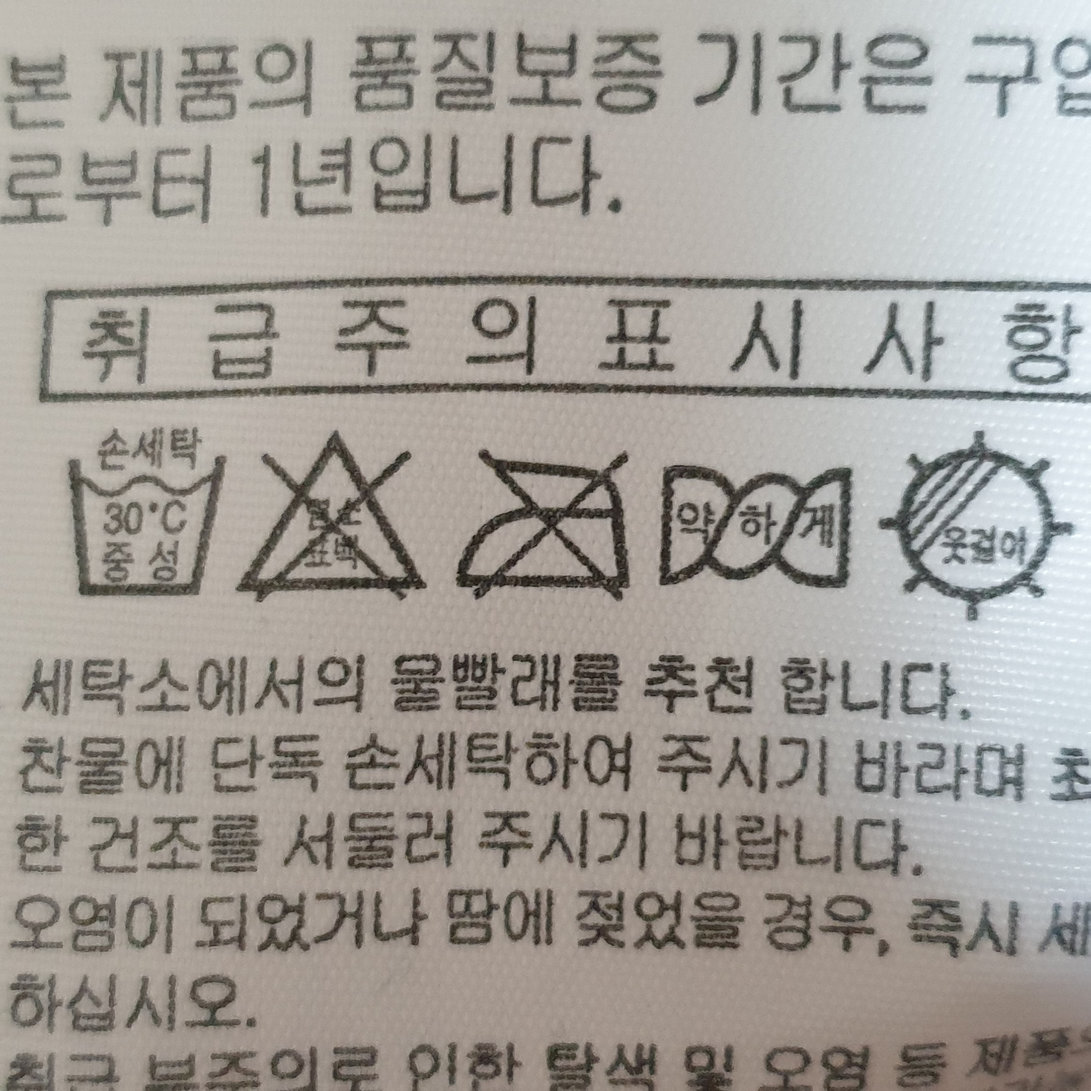KR_gentle_wring: (650, 436, 864, 597)
KR_hand_wash_30_neutral: (51, 415, 233, 610)
KR_hang_dry_in_shade: (877, 422, 1076, 625)
KR_no_chlorine_bleach: (231, 427, 435, 605)
KR_no_iron: (451, 436, 637, 606)
